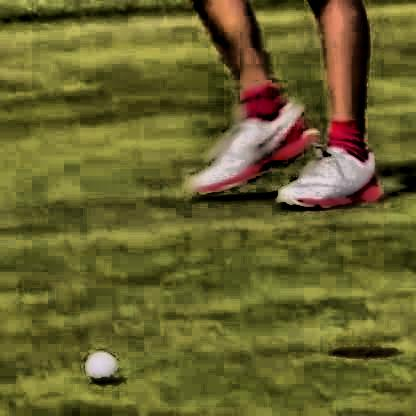golfball: (83, 348, 114, 379)
